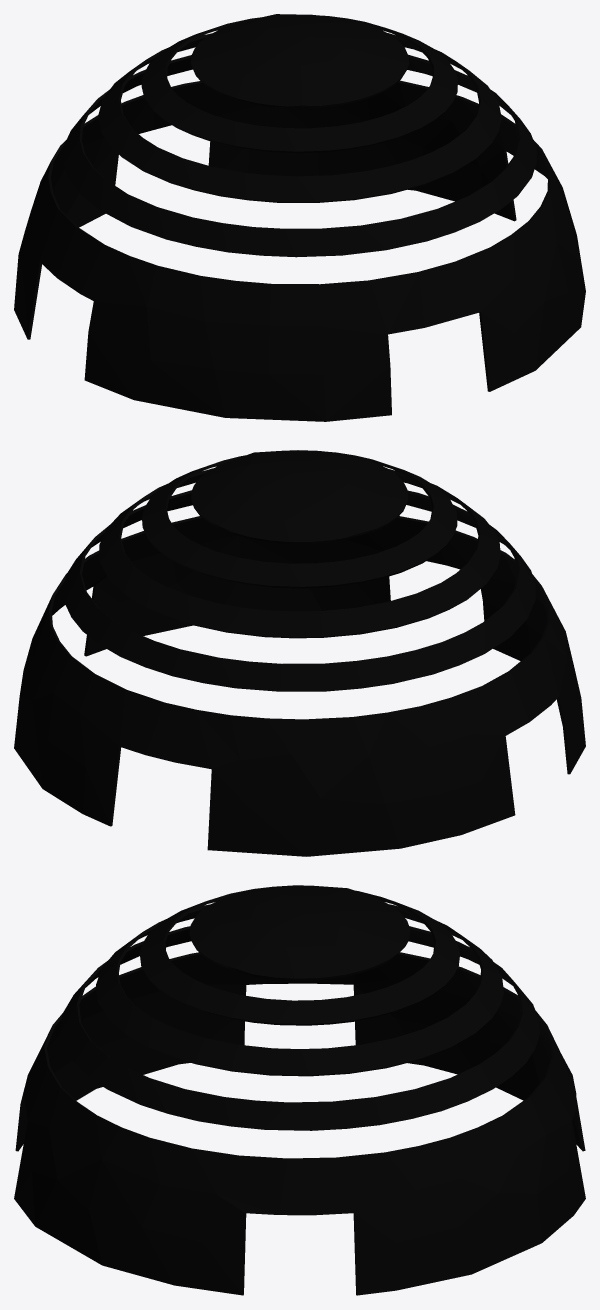
Rendered from darkstage.dae.
3 renders of one model, top to bottom at view 1: azimuth 30°, elevation 25°; view 2: azimuth 150°, elevation 25°; view 3: azimuth 270°, elevation 25°, orthographic.
Visible parts, largest first — view 1: Sphere; view 2: Sphere; view 3: Sphere.
Part boxes in pixels (x1=…): Sphere: x1=14, y1=14, x2=585, y2=421; Sphere: x1=14, y1=450, x2=585, y2=856; Sphere: x1=14, y1=885, x2=585, y2=1295.
Bounding box in the file's own units: 1.96 × 1.96 × 1.
Materials: 1 (1 with a texture image).
